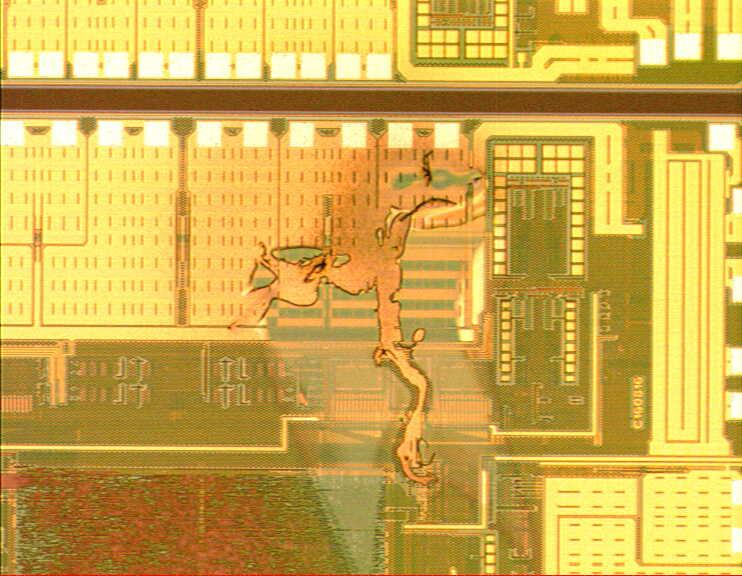BLOCK ETCH: (220, 101, 547, 576)
